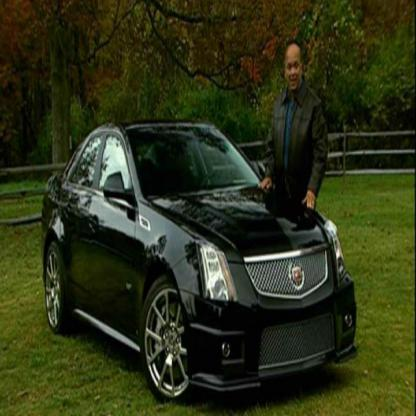Vehicle: (39, 123, 357, 400)
